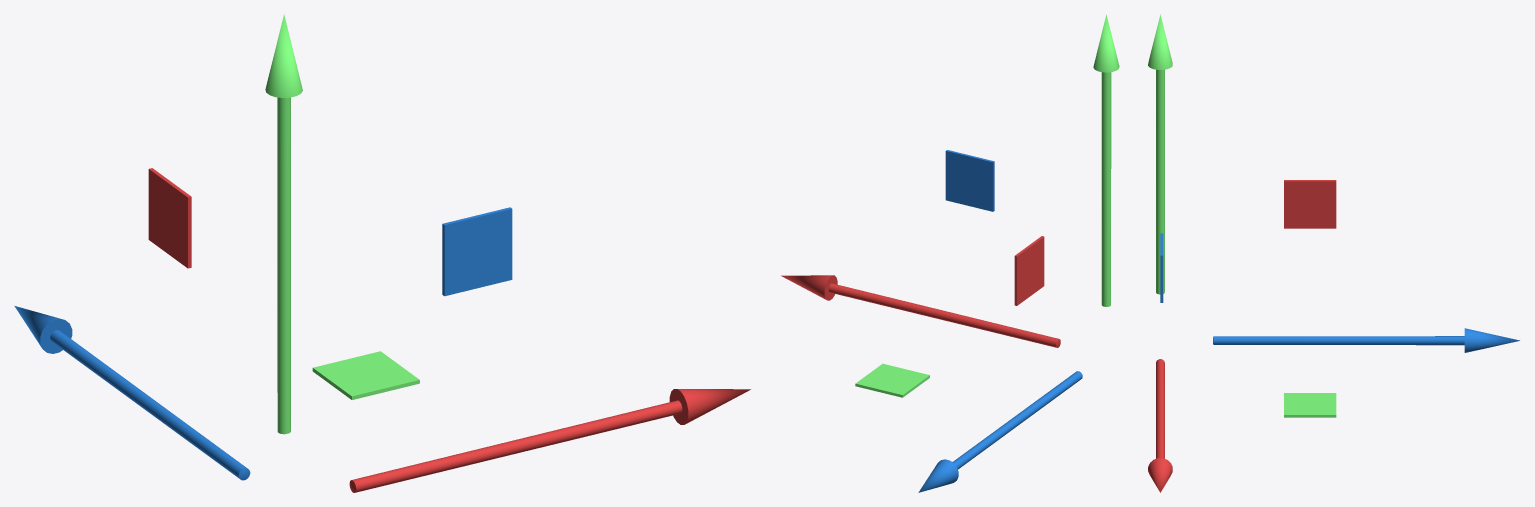
File: gizmo.fbx
3 views of the same model, side by side, from view 1: azimuth 30°, elevation 25°; view 2: azimuth 150°, elevation 25°; view 3: azimuth 270°, elevation 25° (orthographic). The views are drawn at different scales.
Parts seen in each view (by area): view 1: Cylinder; view 2: Cylinder; view 3: Cylinder.
Boxes of the visible parts, x1,y1,x2,y2 form: Cylinder: [14, 14, 750, 492]; Cylinder: [781, 14, 1119, 492]; Cylinder: [1148, 14, 1519, 492].
Size of the model in its own units: 14.93 by 14.93 by 14.93.
